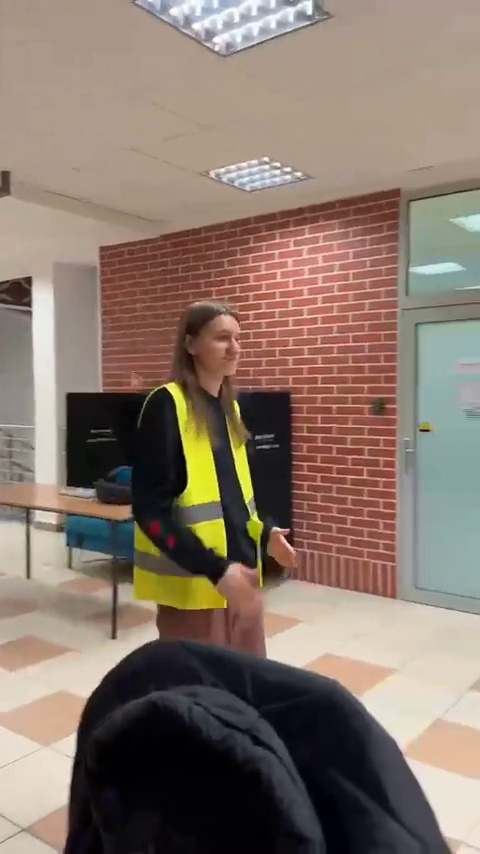vest: (133, 302, 302, 650)
